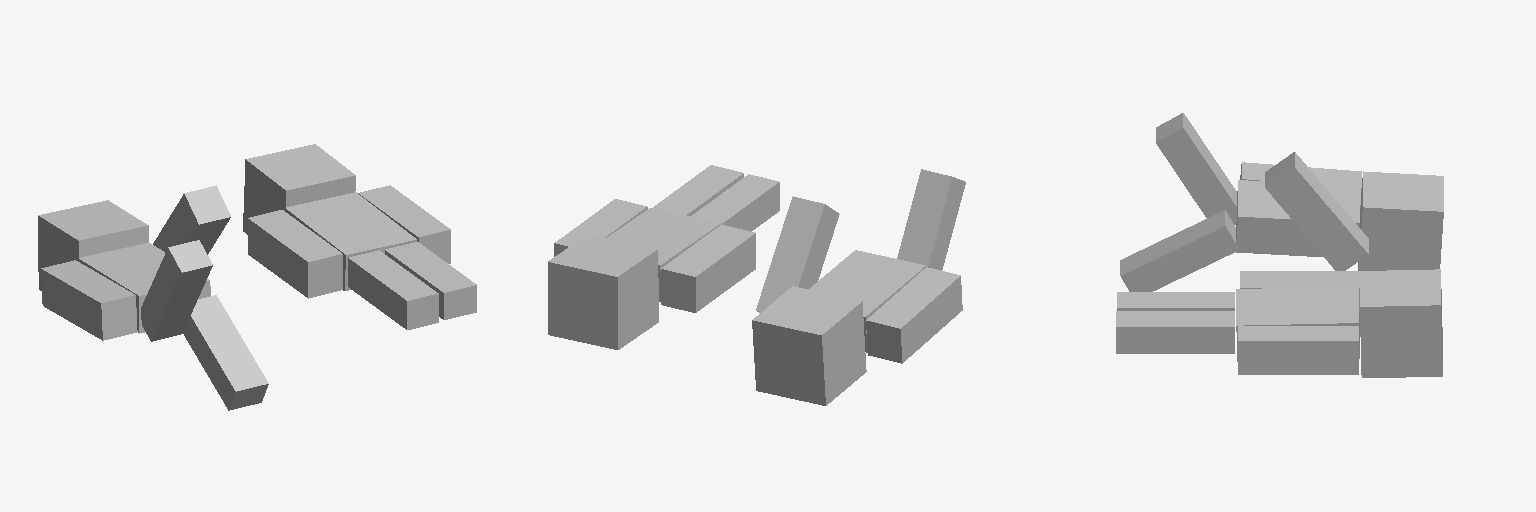
File: steve_000016.obj
3 renders of one model, left to right at view 1: azimuth 30°, elevation 25°; view 2: azimuth 150°, elevation 25°; view 3: azimuth 270°, elevation 25°, orthographic.
Parts seen in each view (by area): view 1: Cube.001_Cube.002, Cube_Cube.001; view 2: Cube_Cube.001, Cube.001_Cube.002; view 3: Cube.001_Cube.002, Cube_Cube.001.
Part boxes in pixels (bbox=[...]): Cube.001_Cube.002: bbox=[243, 144, 476, 329]; Cube_Cube.001: bbox=[38, 185, 268, 410]; Cube_Cube.001: bbox=[752, 169, 965, 405]; Cube.001_Cube.002: bbox=[548, 165, 779, 349]; Cube.001_Cube.002: bbox=[1116, 269, 1442, 377]; Cube_Cube.001: bbox=[1120, 113, 1443, 291].
Bounding box in the file's own units: 6.55 × 2.78 × 5.36.